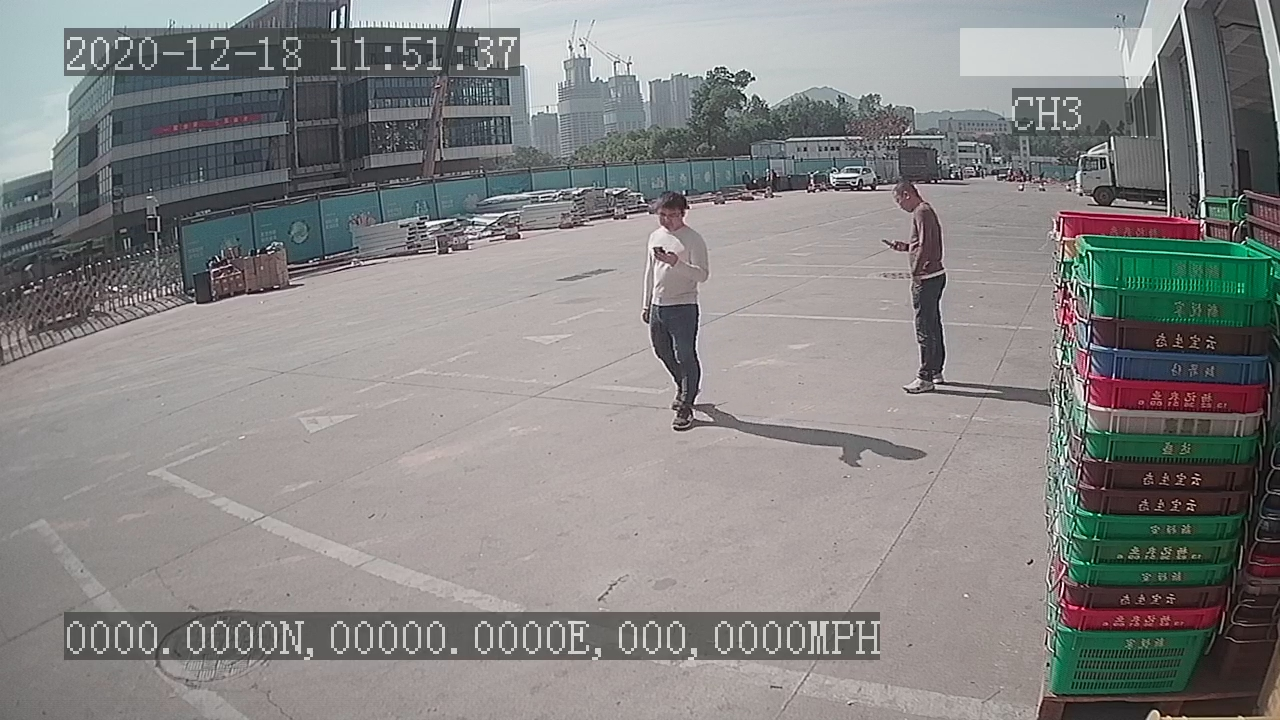person: (634, 186, 715, 442), (881, 174, 958, 401)
